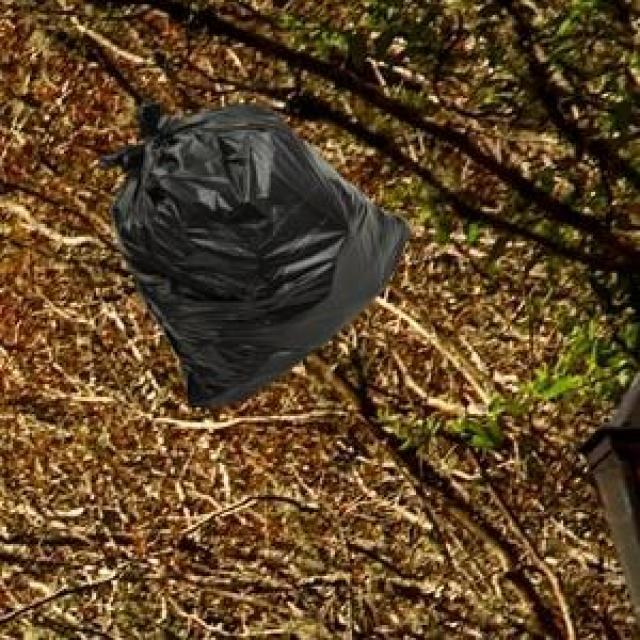miscellaneous trash: (94, 96, 405, 410)
